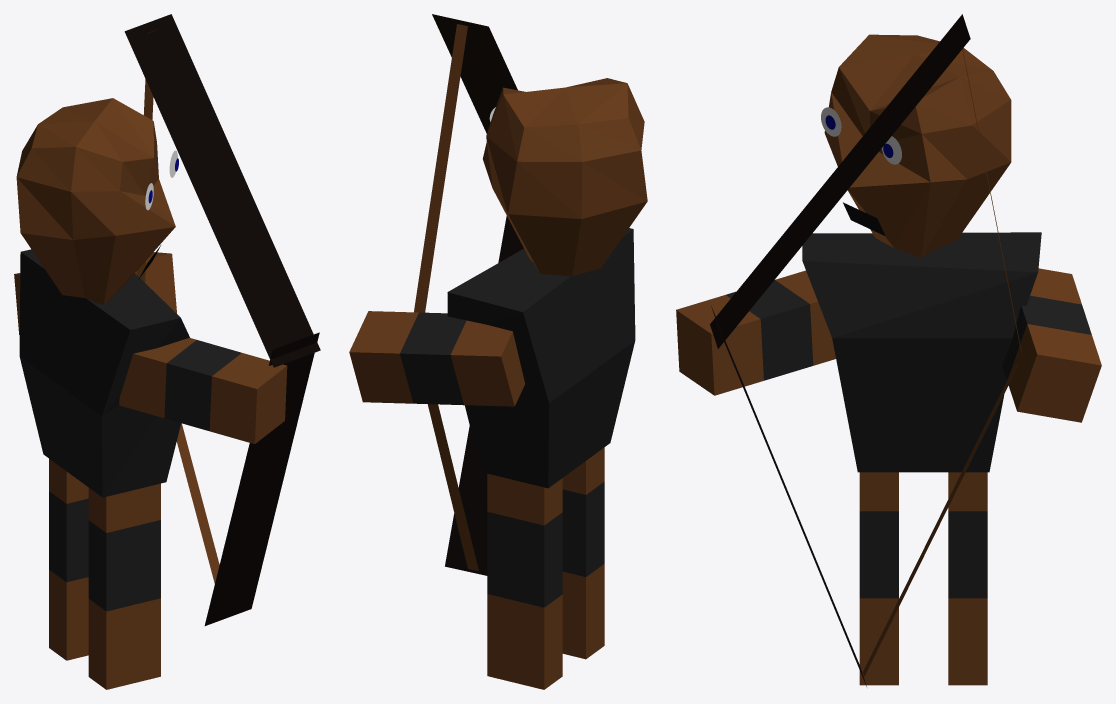
Rendered from archer1f.obj.
3 views of the same model, side by side, from view 1: azimuth 30°, elevation 25°; view 2: azimuth 150°, elevation 25°; view 3: azimuth 270°, elevation 25° (orthographic). The views are drawn at different scales.
Visible parts, largest first — view 1: Cube.001, Cube, Plane.002_Plane.003, Cube.004, Cube.003, Plane.001_Plane.002, Cube.005, Plane.003_Plane.004, Cube.002; view 2: Cube.001, Cube, Cube.005, Cube.002, Cube.004, Plane.003_Plane.004, Plane.001_Plane.002, Plane.002_Plane.003; view 3: Cube.001, Cube, Cube.003, Cube.002, Plane.002_Plane.003, Cube.005, Cube.004, Plane.003_Plane.004, Plane.001_Plane.002.
Part boxes in pixels (x1=…): Cube.001: x1=19, y1=249, x2=189, y2=497; Cube: x1=16, y1=98, x2=175, y2=304; Plane.002_Plane.003: x1=124, y1=14, x2=320, y2=367; Cube.004: x1=88, y1=483, x2=160, y2=689; Cube.003: x1=119, y1=337, x2=287, y2=444; Plane.001_Plane.002: x1=204, y1=332, x2=319, y2=625; Cube.005: x1=49, y1=458, x2=88, y2=660; Plane.003_Plane.004: x1=136, y1=30, x2=219, y2=583; Cube.002: x1=14, y1=252, x2=176, y2=334; Cube.001: x1=447, y1=228, x2=635, y2=488; Cube: x1=483, y1=78, x2=647, y2=275; Cube.005: x1=487, y1=473, x2=562, y2=689; Cube.002: x1=349, y1=311, x2=524, y2=406; Cube.004: x1=562, y1=447, x2=604, y2=659; Plane.003_Plane.004: x1=414, y1=24, x2=478, y2=571; Plane.001_Plane.002: x1=445, y1=216, x2=523, y2=575; Plane.002_Plane.003: x1=432, y1=14, x2=517, y2=133; Cube.001: x1=802, y1=232, x2=1041, y2=472; Cube: x1=824, y1=34, x2=1011, y2=258; Cube.003: x1=676, y1=270, x2=835, y2=395; Cube.002: x1=1002, y1=268, x2=1101, y2=422; Plane.002_Plane.003: x1=710, y1=14, x2=970, y2=348; Cube.005: x1=948, y1=472, x2=987, y2=685; Cube.004: x1=859, y1=472, x2=898, y2=685; Plane.003_Plane.004: x1=863, y1=49, x2=1021, y2=676; Plane.001_Plane.002: x1=711, y1=305, x2=866, y2=686.
Bounding box in the file's own units: 2.42 × 6.6 × 3.75.
